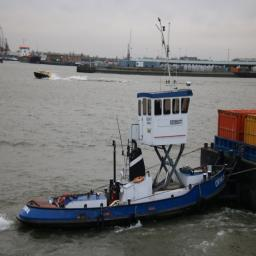tugboat: (15, 84, 231, 239)
